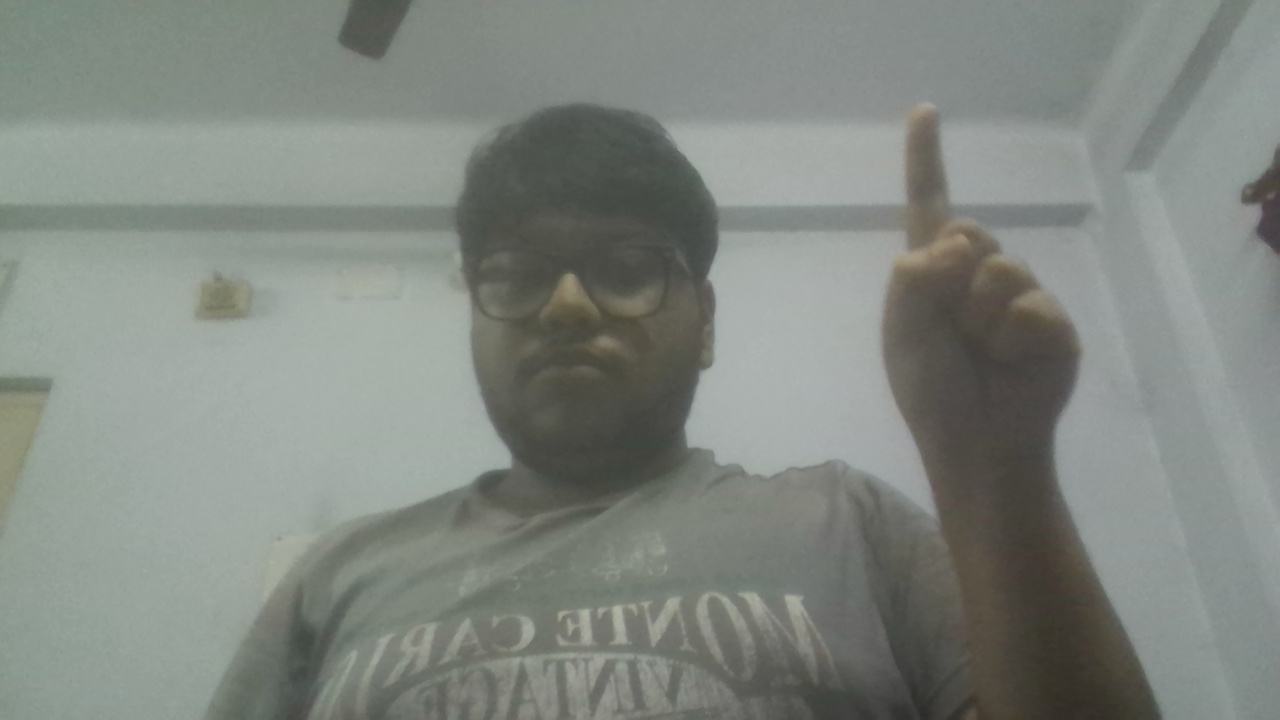Gesture1: (865, 89, 1094, 476)
